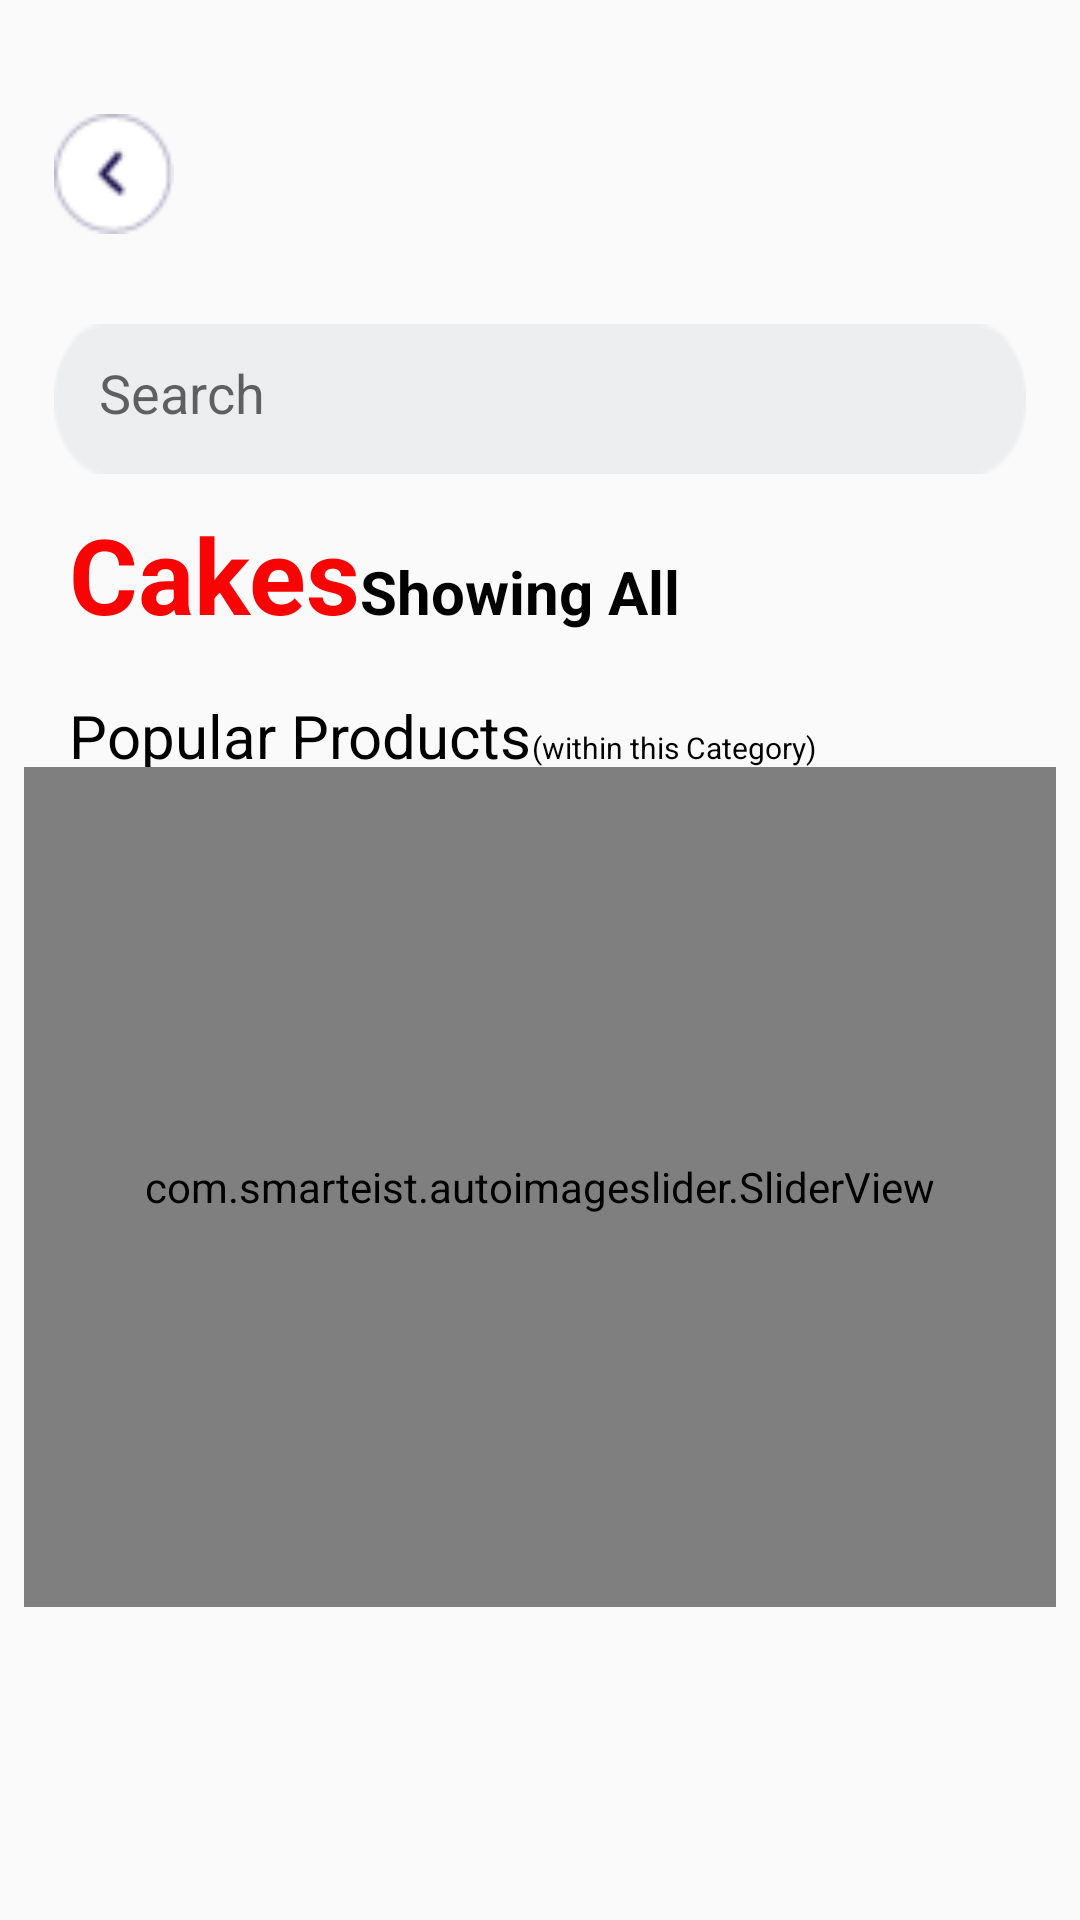

Icon bounding boxes for this 1080px×1920px phone screenshot, format (x1, y1, x2, y2):
back left: (54, 114, 171, 234)
